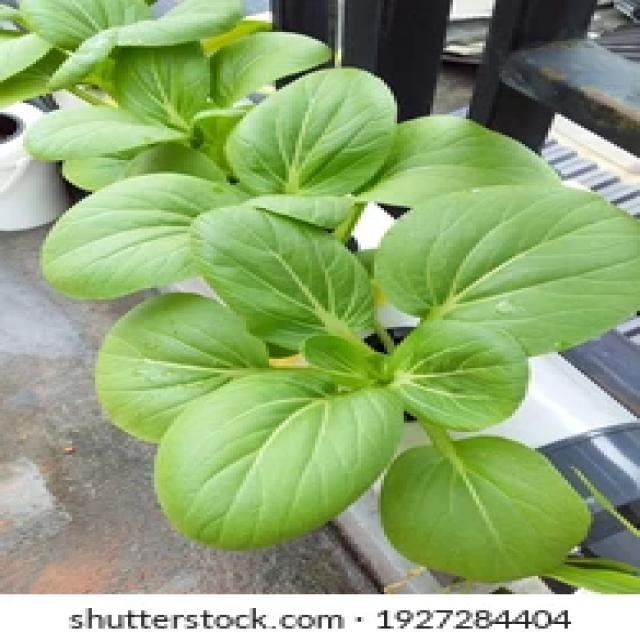pakcoy_tidak_sehat: (116, 210, 607, 583)
